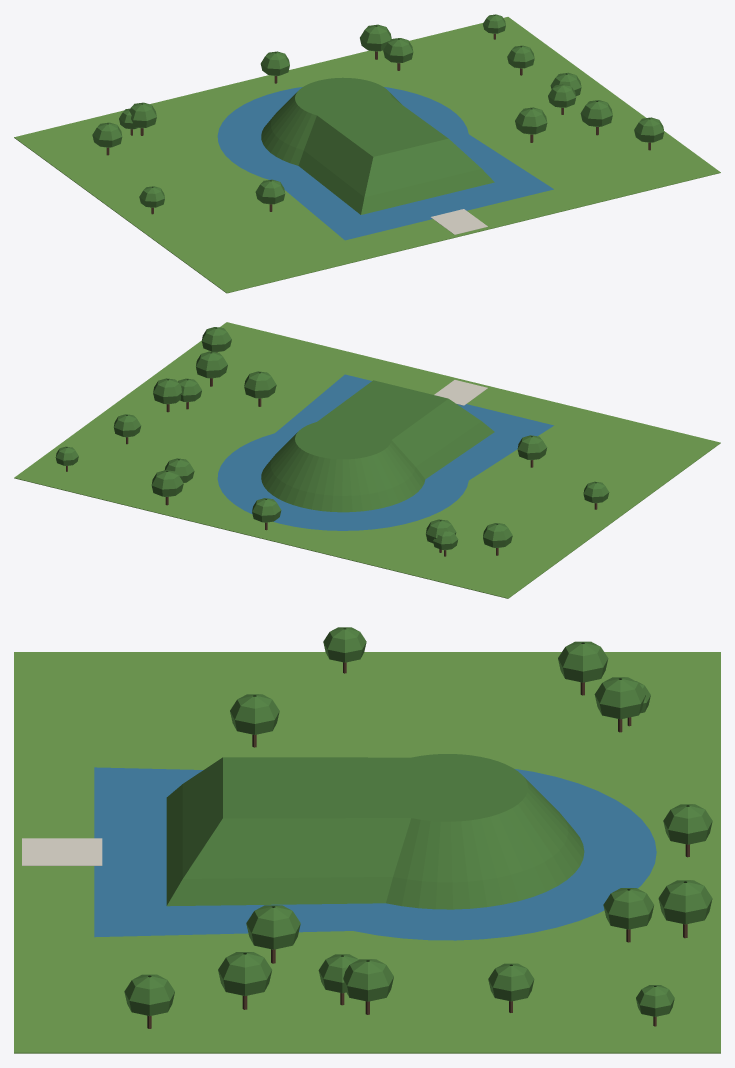
Rendered from ancient_ruins.glb.
3 views of the same model, one above another, from view 1: azimuth 30°, elevation 25°; view 2: azimuth 150°, elevation 25°; view 3: azimuth 270°, elevation 25° (orthographic). The views are drawn at different scales.
Visible parts, largest first — view 1: Kofun_static; view 2: Kofun_static; view 3: Kofun_static.
Part boxes in pixels (x1=…): Kofun_static: x1=14, y1=14, x2=720, y2=293; Kofun_static: x1=14, y1=322, x2=720, y2=598; Kofun_static: x1=14, y1=627, x2=720, y2=1053.
Bounding box in the file's own units: 118 × 9 × 88.01.
